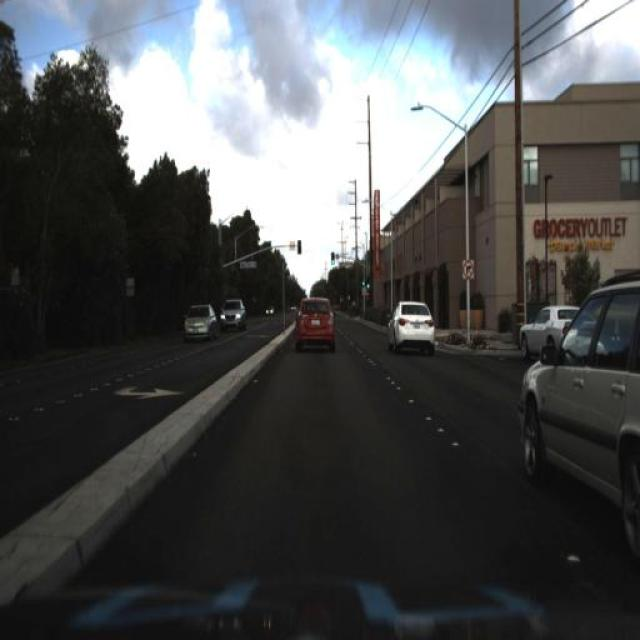car: (504, 282, 640, 590), (286, 289, 352, 365), (382, 291, 438, 365), (512, 302, 573, 359), (178, 298, 224, 342), (178, 300, 220, 346), (218, 293, 248, 333), (221, 299, 247, 330)
trafficLight-GreenLeft: (326, 246, 342, 276), (366, 276, 372, 296), (360, 276, 366, 295)
